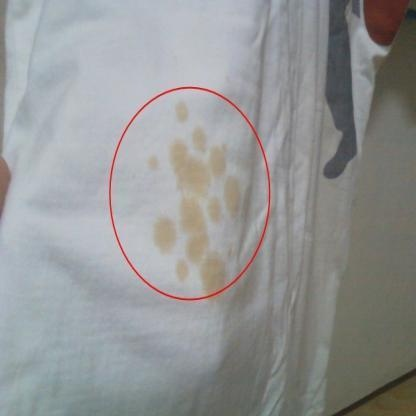coffee: (168, 142, 207, 193), (183, 200, 201, 230), (203, 263, 225, 287), (157, 221, 173, 250), (211, 145, 226, 174), (226, 180, 238, 212), (190, 236, 204, 259), (196, 132, 204, 149), (179, 264, 187, 278), (212, 202, 218, 218), (178, 103, 184, 119)
